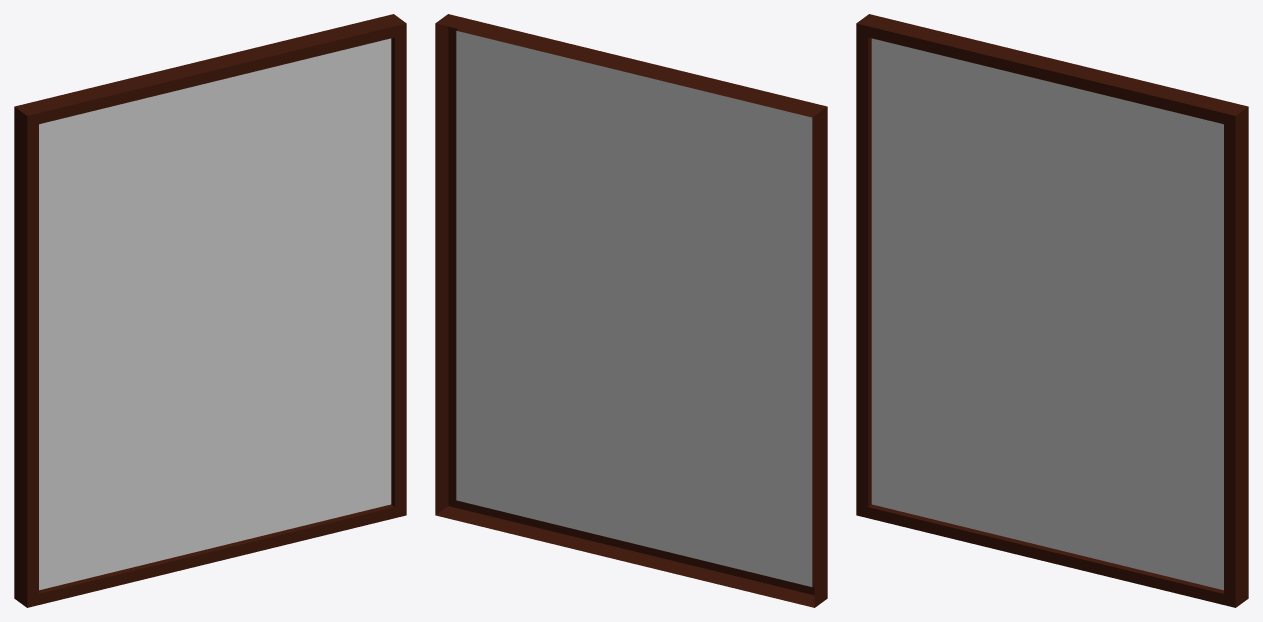
File: portrait_new_vert.fbx
3 renders of one model, left to right at view 1: azimuth 30°, elevation 25°; view 2: azimuth 150°, elevation 25°; view 3: azimuth 330°, elevation 25°, orthographic.
Visible parts, largest first — view 1: portrait_vert_depth; view 2: portrait_vert_depth; view 3: portrait_vert_depth.
Boxes of the visible parts, x1,y1,x2,y2 form: portrait_vert_depth: [14, 14, 406, 607]; portrait_vert_depth: [435, 14, 827, 607]; portrait_vert_depth: [856, 14, 1248, 607].
Size of the model in its own units: 126 by 157 by 7.42.
